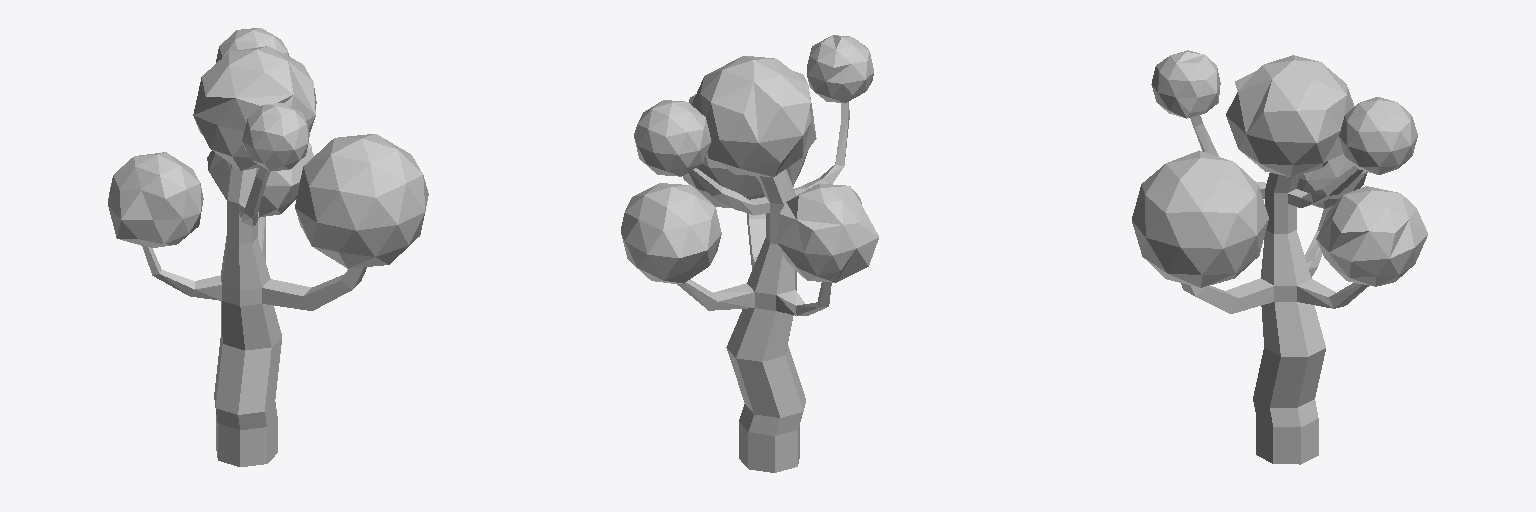
Rendered from c3Tree.obj.
3 views of the same model, side by side, from view 1: azimuth 30°, elevation 25°; view 2: azimuth 150°, elevation 25°; view 3: azimuth 270°, elevation 25° (orthographic).
Parts seen in each view (by area): view 1: Икосфера.020_Икосфера.034; view 2: Икосфера.020_Икосфера.034; view 3: Икосфера.020_Икосфера.034.
Part boxes in pixels (bbox=[...]): Икосфера.020_Икосфера.034: bbox=[108, 28, 428, 466]; Икосфера.020_Икосфера.034: bbox=[621, 35, 878, 472]; Икосфера.020_Икосфера.034: bbox=[1132, 50, 1427, 464].
Bounding box in the file's own units: 2.17 × 3.36 × 2.27.